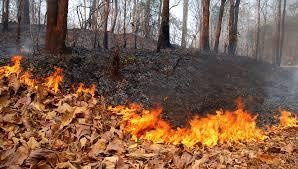fire: (103, 92, 278, 148), (0, 51, 52, 94)
